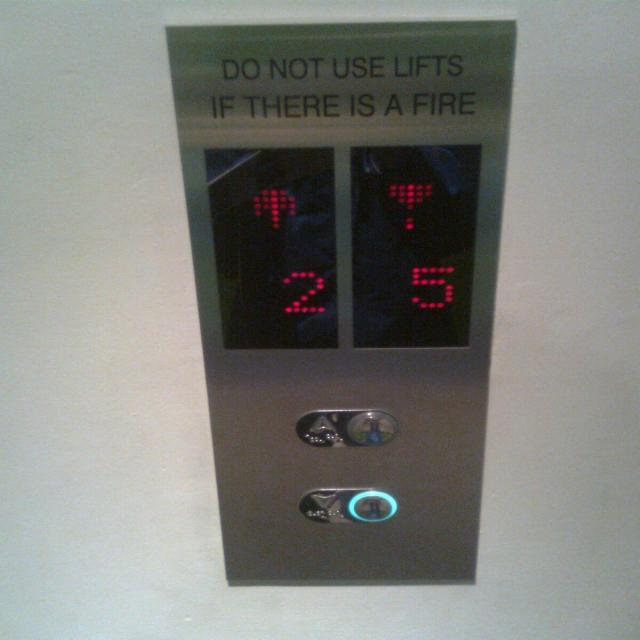down: (295, 487, 397, 524)
led: (202, 145, 340, 350), (348, 144, 480, 348)
up: (293, 408, 397, 448)
